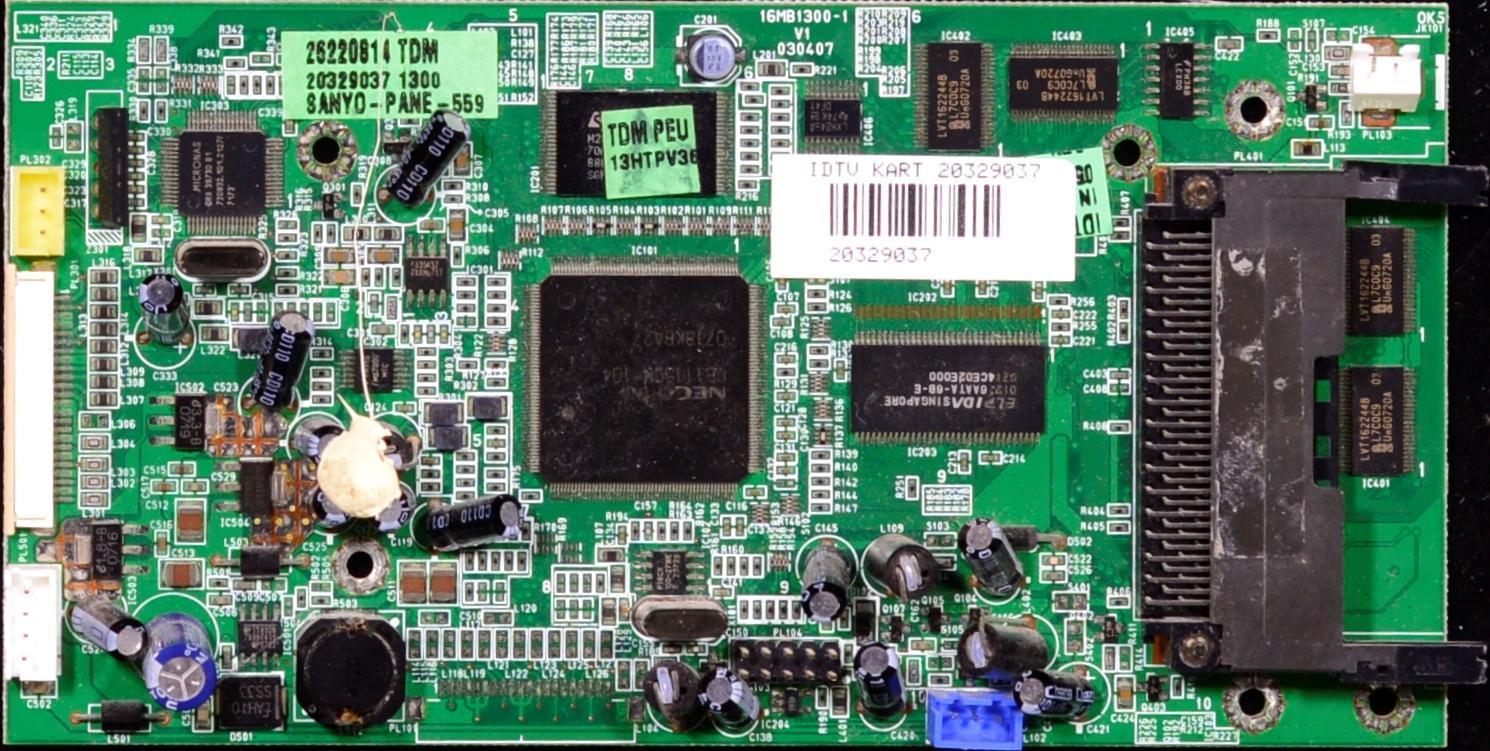Capacitor: (428, 562, 452, 603), (179, 504, 202, 539), (403, 563, 423, 603), (167, 562, 198, 586), (1115, 676, 1135, 713), (446, 208, 460, 241), (320, 272, 354, 284), (908, 637, 935, 652), (1041, 571, 1069, 584), (168, 461, 192, 476), (328, 250, 354, 263), (960, 450, 973, 476), (181, 480, 208, 492), (151, 480, 178, 492), (1050, 309, 1076, 321), (456, 151, 468, 175), (208, 598, 233, 609), (369, 252, 391, 264), (370, 327, 394, 338), (1327, 30, 1351, 41), (1216, 39, 1238, 51), (1052, 334, 1072, 347), (159, 530, 168, 557), (908, 659, 919, 681), (27, 683, 43, 698), (439, 322, 448, 348), (984, 451, 1002, 464), (1308, 120, 1329, 131), (1290, 30, 1300, 53), (778, 302, 797, 314), (1042, 555, 1067, 564), (722, 516, 732, 538), (263, 580, 285, 590), (1109, 382, 1127, 394), (779, 417, 798, 428), (234, 581, 257, 590), (196, 711, 208, 728), (834, 360, 844, 380), (686, 644, 706, 654), (746, 490, 768, 499), (644, 521, 654, 540), (422, 218, 436, 231), (1109, 369, 1129, 378), (1326, 50, 1346, 59), (771, 316, 787, 327), (739, 515, 747, 537), (397, 402, 416, 411), (777, 480, 796, 489), (230, 303, 238, 324), (776, 356, 797, 364), (130, 144, 148, 153), (778, 432, 796, 441), (619, 600, 628, 618), (138, 71, 145, 94), (427, 324, 435, 344), (778, 455, 797, 463), (1330, 70, 1351, 77), (152, 214, 168, 223), (780, 279, 790, 293), (415, 325, 422, 345), (616, 524, 623, 544), (774, 391, 791, 399), (777, 469, 796, 476), (131, 195, 144, 205), (664, 644, 677, 654), (131, 155, 144, 164), (54, 129, 61, 145), (131, 170, 143, 179), (715, 588, 733, 594), (131, 132, 145, 139), (131, 183, 144, 190)
Connector: (0, 265, 69, 543), (0, 549, 84, 721), (9, 150, 74, 260)
IC: (557, 278, 740, 482), (549, 92, 714, 195), (854, 342, 1020, 430), (1006, 45, 1107, 116), (1345, 369, 1407, 472), (186, 135, 260, 216), (1350, 233, 1406, 326), (937, 46, 984, 140), (808, 89, 869, 141), (73, 522, 119, 586), (1158, 41, 1194, 112), (353, 350, 394, 389), (648, 553, 687, 593), (410, 261, 448, 298), (242, 619, 277, 654), (180, 393, 197, 444), (786, 690, 798, 715)
Resistor: (137, 36, 151, 59), (739, 598, 751, 620), (155, 100, 167, 121), (741, 110, 761, 122), (208, 576, 228, 588), (790, 64, 810, 76), (491, 549, 501, 572), (350, 184, 361, 204), (387, 270, 398, 290), (311, 582, 332, 592), (255, 55, 274, 66), (223, 37, 239, 50), (910, 475, 918, 501), (1172, 672, 1181, 695), (1117, 324, 1127, 344), (464, 582, 474, 602), (445, 179, 463, 190), (487, 471, 505, 482), (1108, 598, 1130, 607), (767, 598, 776, 620), (815, 688, 824, 710), (1120, 647, 1128, 671), (1108, 504, 1127, 514), (455, 317, 476, 326), (507, 552, 516, 573), (1261, 30, 1278, 41), (455, 244, 463, 267), (684, 521, 692, 544), (276, 219, 294, 229), (1047, 295, 1067, 304), (814, 475, 832, 485), (264, 76, 274, 94), (252, 76, 261, 96), (813, 503, 835, 511), (794, 599, 802, 621), (228, 72, 236, 94), (359, 268, 368, 287), (418, 372, 437, 381), (297, 587, 306, 606), (487, 359, 504, 369), (1332, 80, 1349, 90), (373, 269, 381, 290), (155, 38, 162, 62), (459, 301, 477, 310), (931, 673, 949, 682), (744, 95, 762, 104), (240, 74, 247, 97), (809, 303, 825, 313), (751, 557, 759, 577), (137, 100, 144, 122), (316, 594, 330, 605), (741, 123, 758, 132), (487, 482, 504, 491), (629, 521, 638, 538), (284, 596, 293, 613), (281, 281, 296, 291), (314, 392, 329, 402), (312, 382, 328, 391), (423, 468, 441, 476), (424, 486, 442, 494), (465, 552, 473, 570), (780, 601, 789, 617), (460, 489, 474, 499), (402, 325, 410, 342), (813, 465, 830, 473), (742, 83, 759, 91), (744, 164, 759, 173), (485, 277, 500, 286), (777, 369, 792, 378), (1109, 423, 1128, 430), (657, 521, 664, 540), (520, 554, 527, 573), (1342, 106, 1348, 128), (278, 250, 294, 258), (670, 523, 678, 539), (744, 149, 758, 158), (279, 267, 297, 274), (494, 315, 508, 324), (229, 55, 243, 64), (422, 456, 437, 464), (1108, 647, 1114, 667), (1120, 300, 1127, 317), (809, 344, 826, 351), (1110, 524, 1127, 531), (490, 425, 503, 434), (479, 549, 484, 572), (754, 598, 760, 617), (312, 228, 319, 244), (491, 304, 507, 311), (313, 351, 329, 358), (484, 379, 500, 386), (490, 456, 504, 464), (841, 610, 848, 626), (442, 195, 460, 201), (419, 386, 437, 392), (712, 556, 718, 574), (776, 86, 788, 95), (809, 290, 822, 298), (524, 491, 537, 499), (770, 102, 787, 108), (460, 278, 474, 285), (419, 354, 433, 361), (490, 440, 504, 447), (815, 450, 829, 457), (280, 236, 296, 242), (773, 124, 786, 131), (459, 360, 472, 367), (739, 184, 757, 189), (313, 368, 328, 374), (813, 491, 828, 497), (773, 138, 785, 145), (812, 360, 828, 365), (739, 557, 743, 577), (458, 477, 471, 483), (494, 291, 505, 298), (462, 455, 473, 462), (462, 468, 473, 475), (328, 227, 333, 242), (775, 114, 787, 120), (458, 293, 472, 298), (423, 365, 434, 371), (744, 138, 757, 143), (728, 558, 732, 574)
